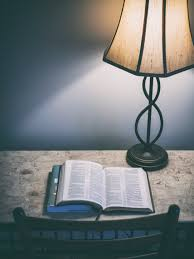Open Book: (45, 158, 158, 214)
